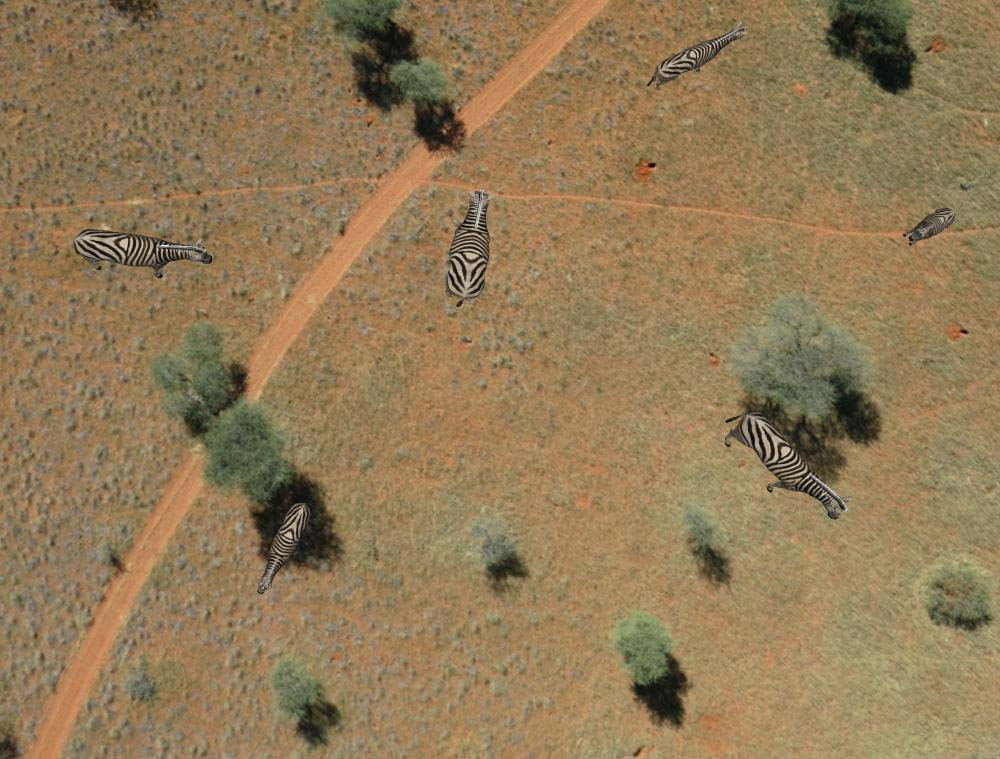zebra: (723, 407, 847, 532), (72, 216, 217, 285), (652, 21, 745, 96), (445, 186, 494, 308), (258, 492, 312, 600), (904, 202, 952, 256)
